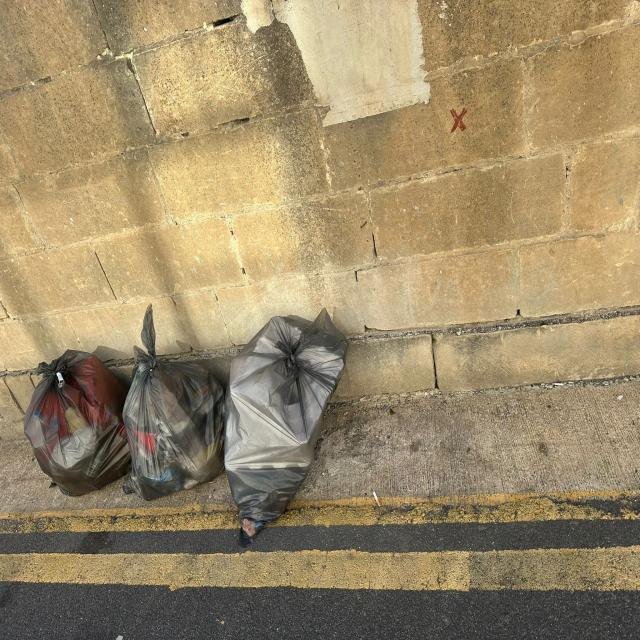black_bag: (226, 309, 349, 540), (124, 317, 225, 507), (20, 345, 132, 499)
